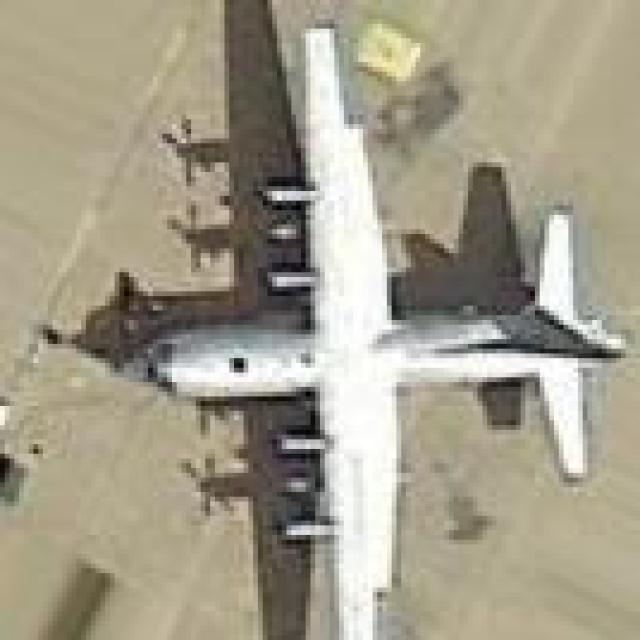C-130_TopDown: (70, 0, 626, 639)
